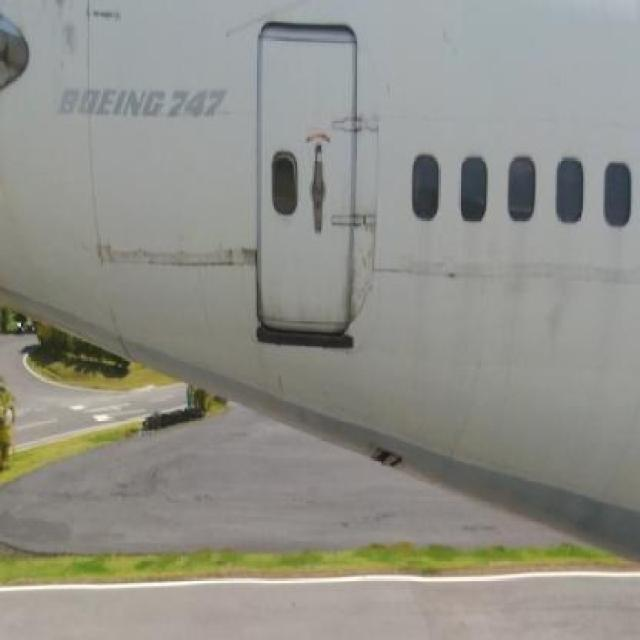Scartch: (84, 227, 276, 313), (30, 0, 141, 78), (523, 225, 582, 360), (346, 214, 380, 337)
